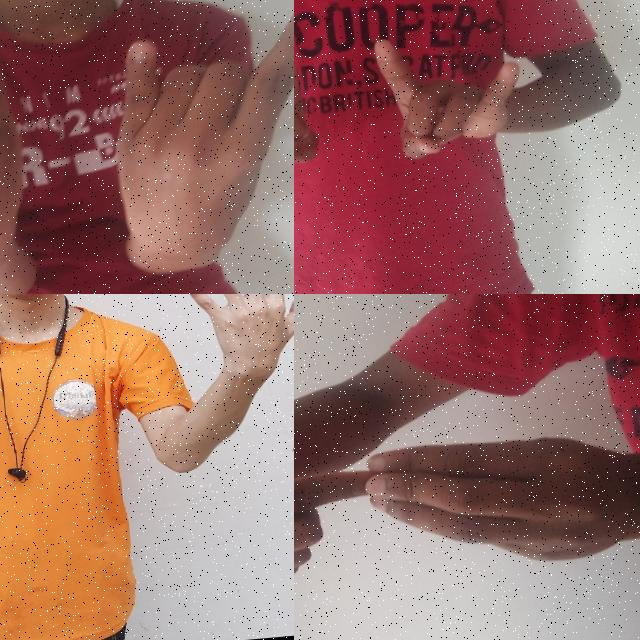Corna: (100, 0, 294, 281), (366, 22, 534, 172), (294, 35, 328, 197)
Five Fathers: (294, 334, 640, 623)
Moutza: (169, 294, 294, 406)
